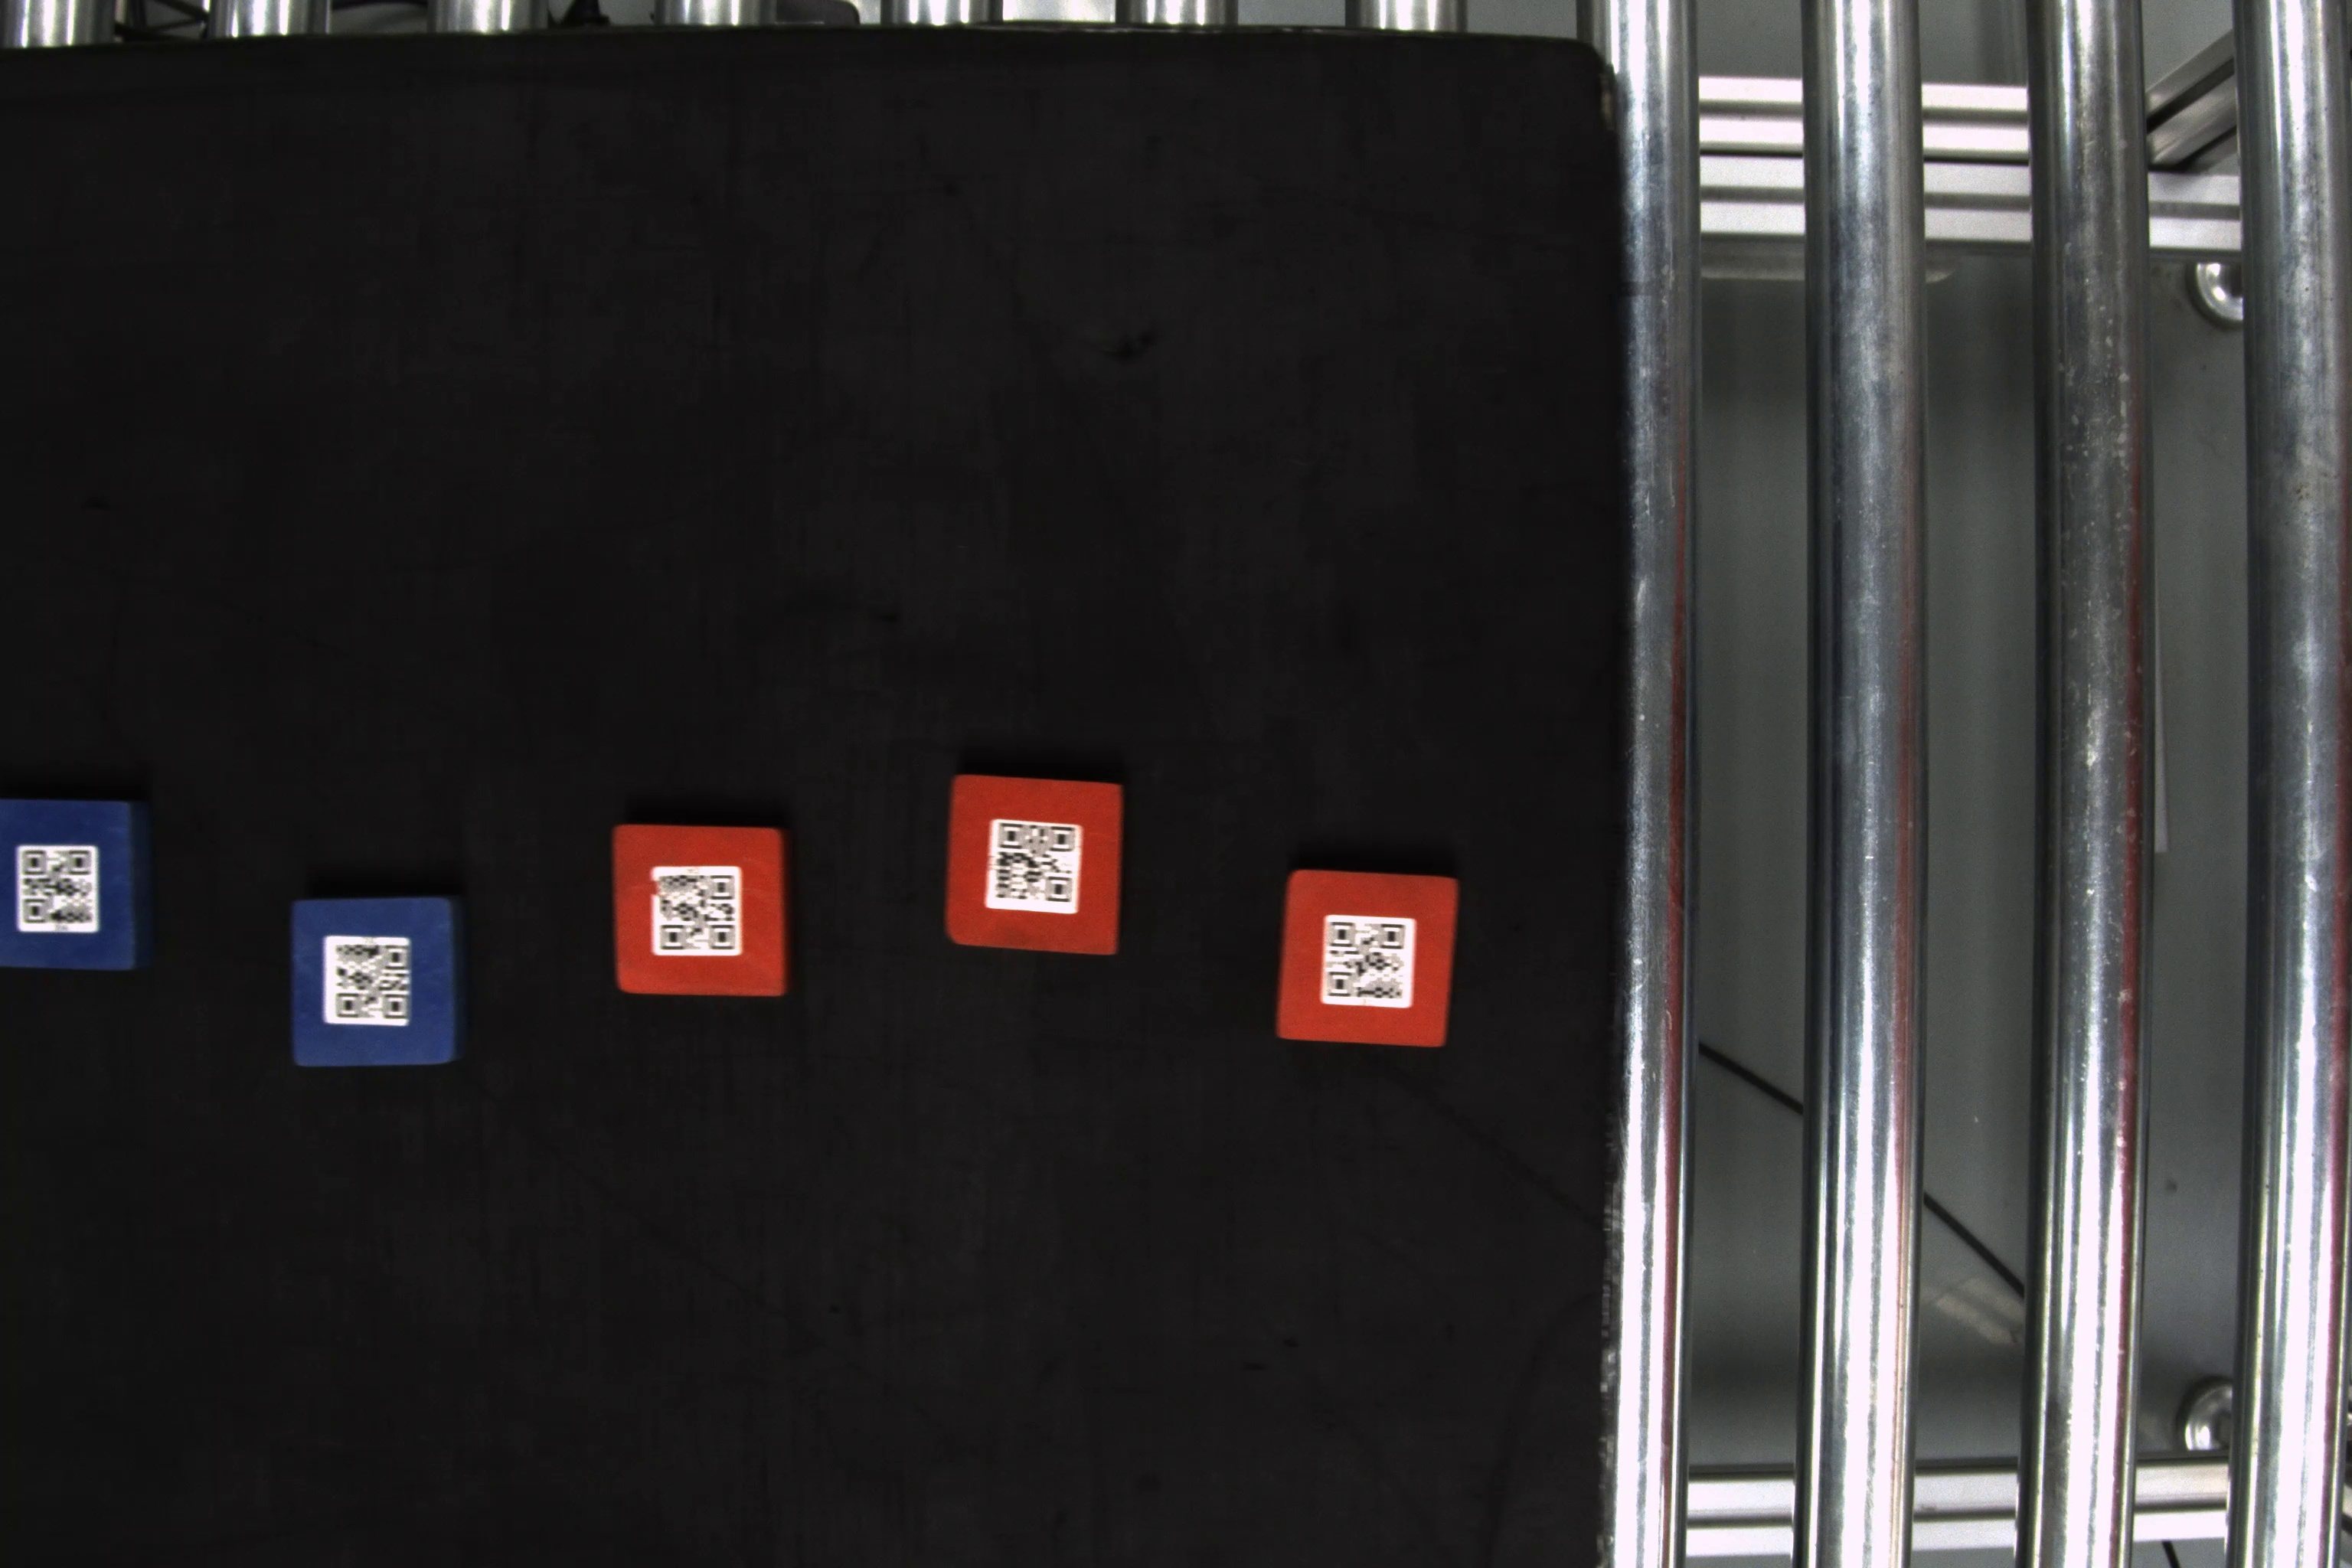wood: (605, 817, 796, 1003), (947, 772, 1130, 961), (1277, 864, 1459, 1055), (283, 896, 464, 1073), (0, 793, 154, 973)
